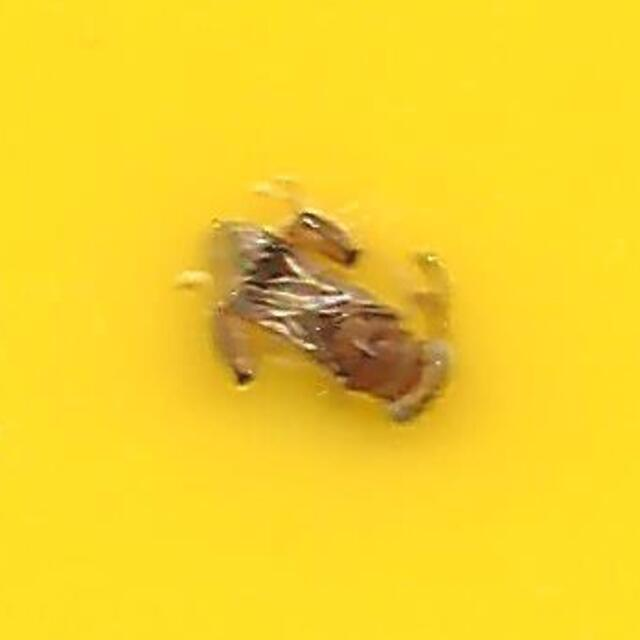Hymenoptera: (184, 198, 456, 442)
